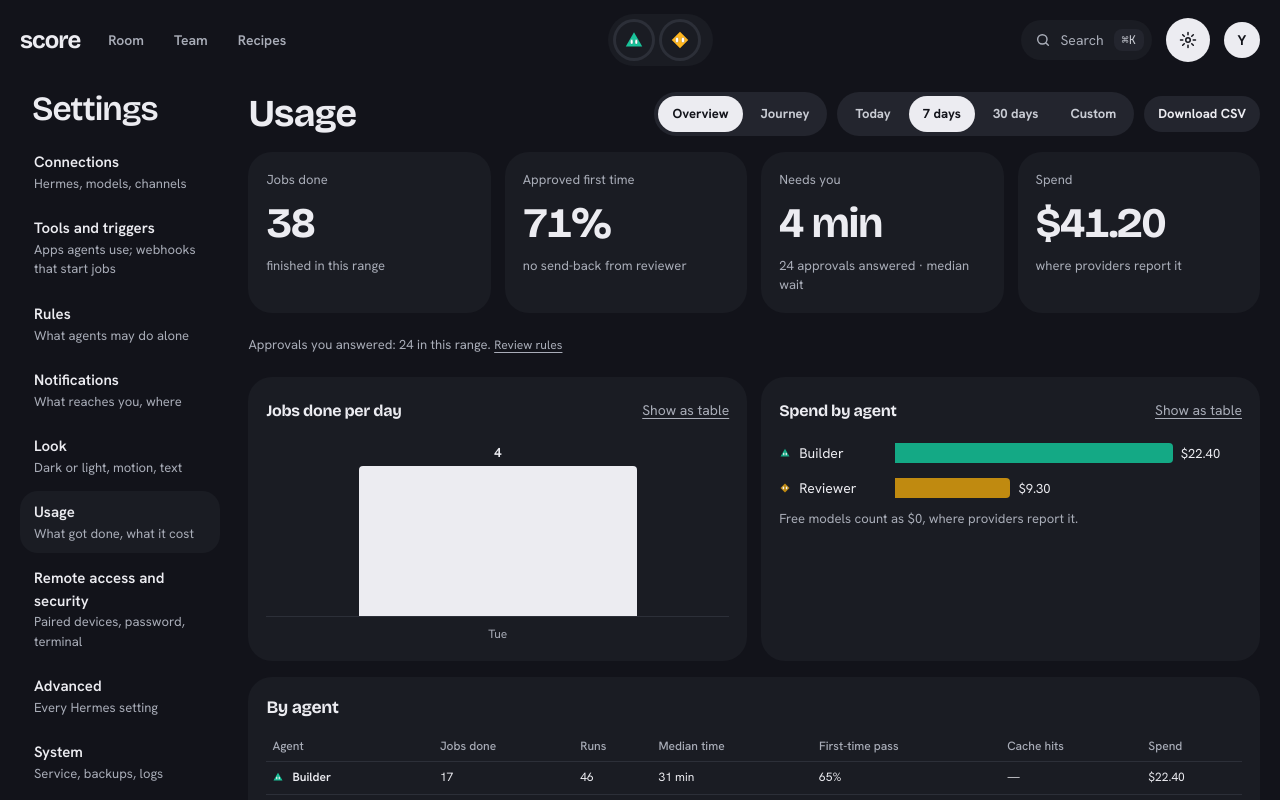
Test: the Journey view draws one row per agent with a legend and a count table
Check: the element named "Usage in numbers" is shown, box x1=248 y1=152 x2=1260 y2=313
Click the button "Journey" at {"x": 785, "y": 114}, box x1=747 y1=96 x2=823 y2=132
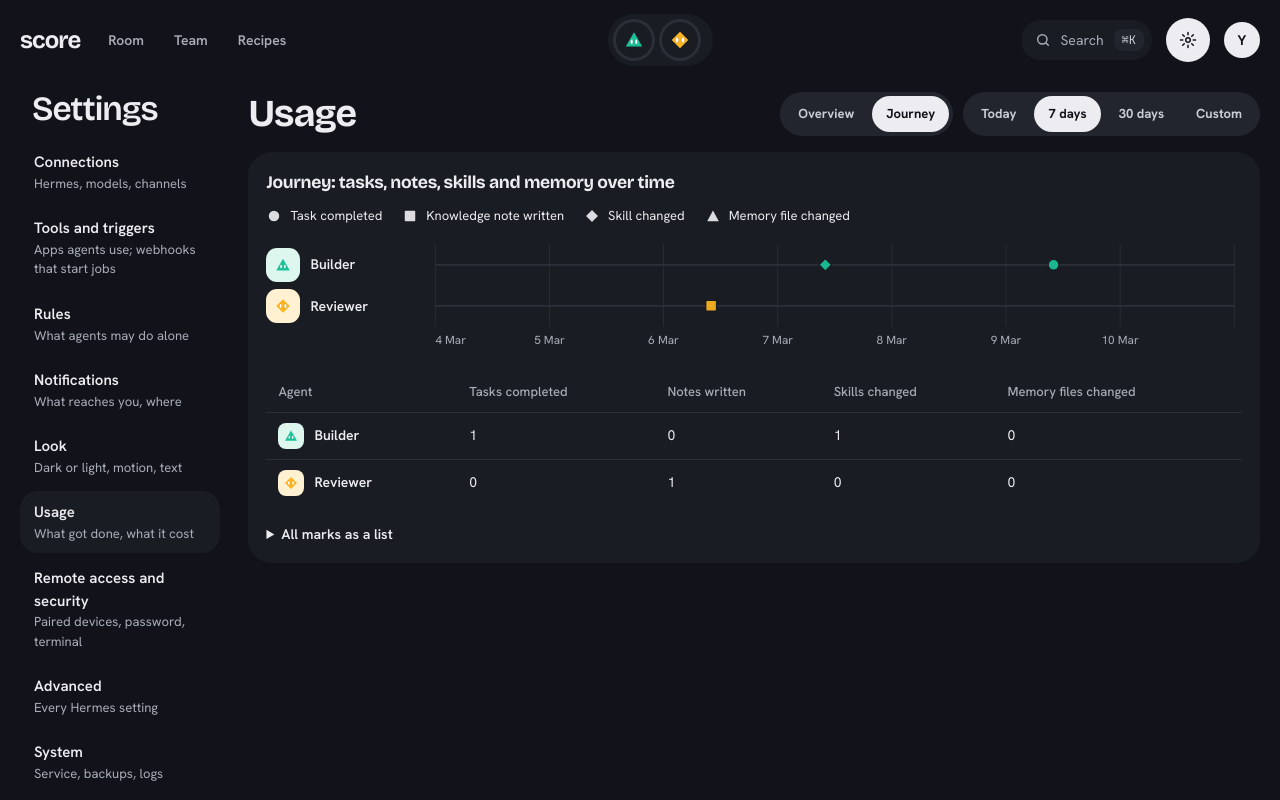
Check: the picture named "Journey from 2026-03-04 to 2026-03-10: 3 marks" is shown, box x1=266 y1=244 x2=1242 y2=354
Check: the list item "Skill changed" is shown, box x1=584 y1=206 x2=685 y2=226
Check: the table named "Journey counts per agent" is shown, box x1=266 y1=372 x2=1242 y2=506
Click the button "Overview" at {"x": 826, "y": 114}, box x1=784 y1=96 x2=868 y2=132
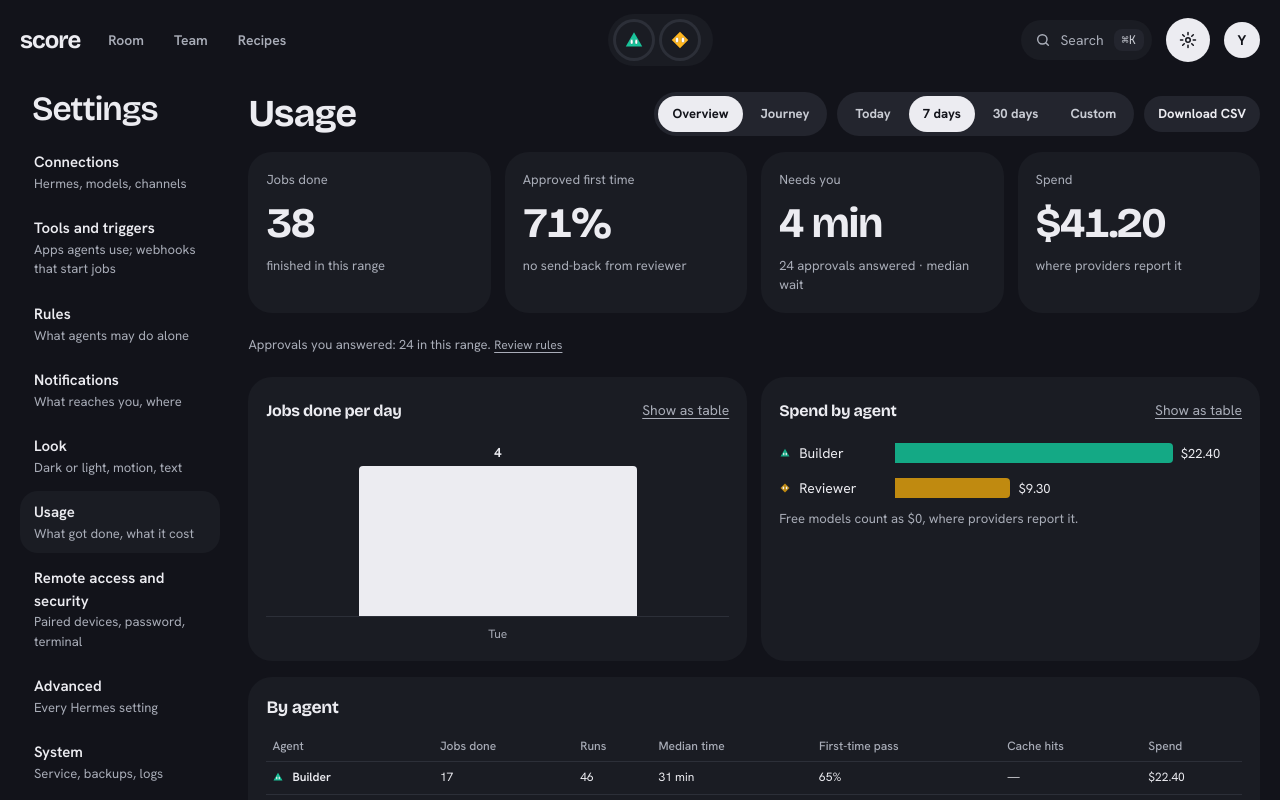
Check: the element named "Usage in numbers" is shown, box x1=248 y1=152 x2=1260 y2=313
